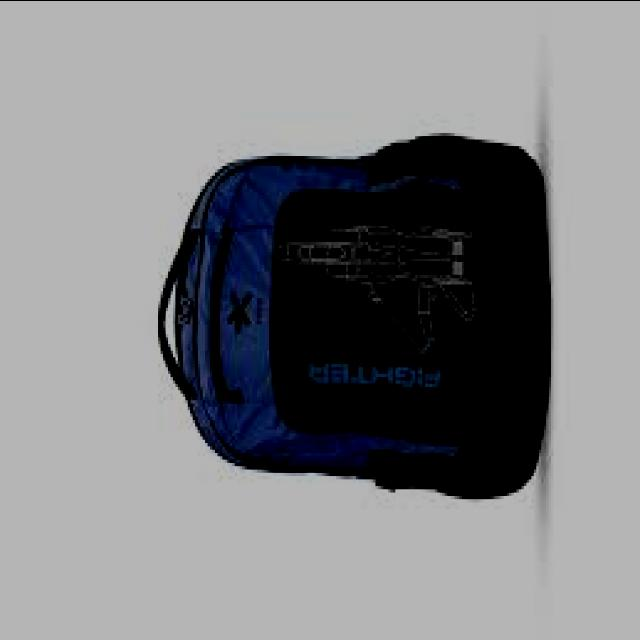backpack: (157, 137, 550, 503)
